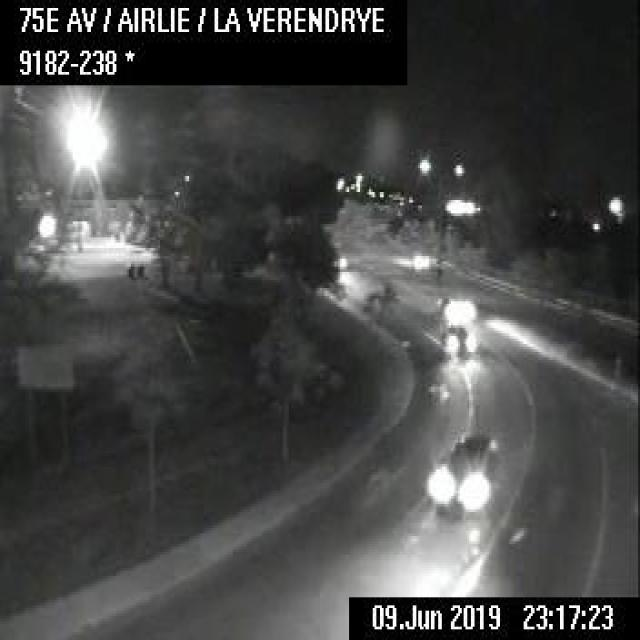vehicle: (429, 429, 496, 515), (434, 324, 472, 357), (435, 294, 466, 320), (332, 249, 349, 268)
